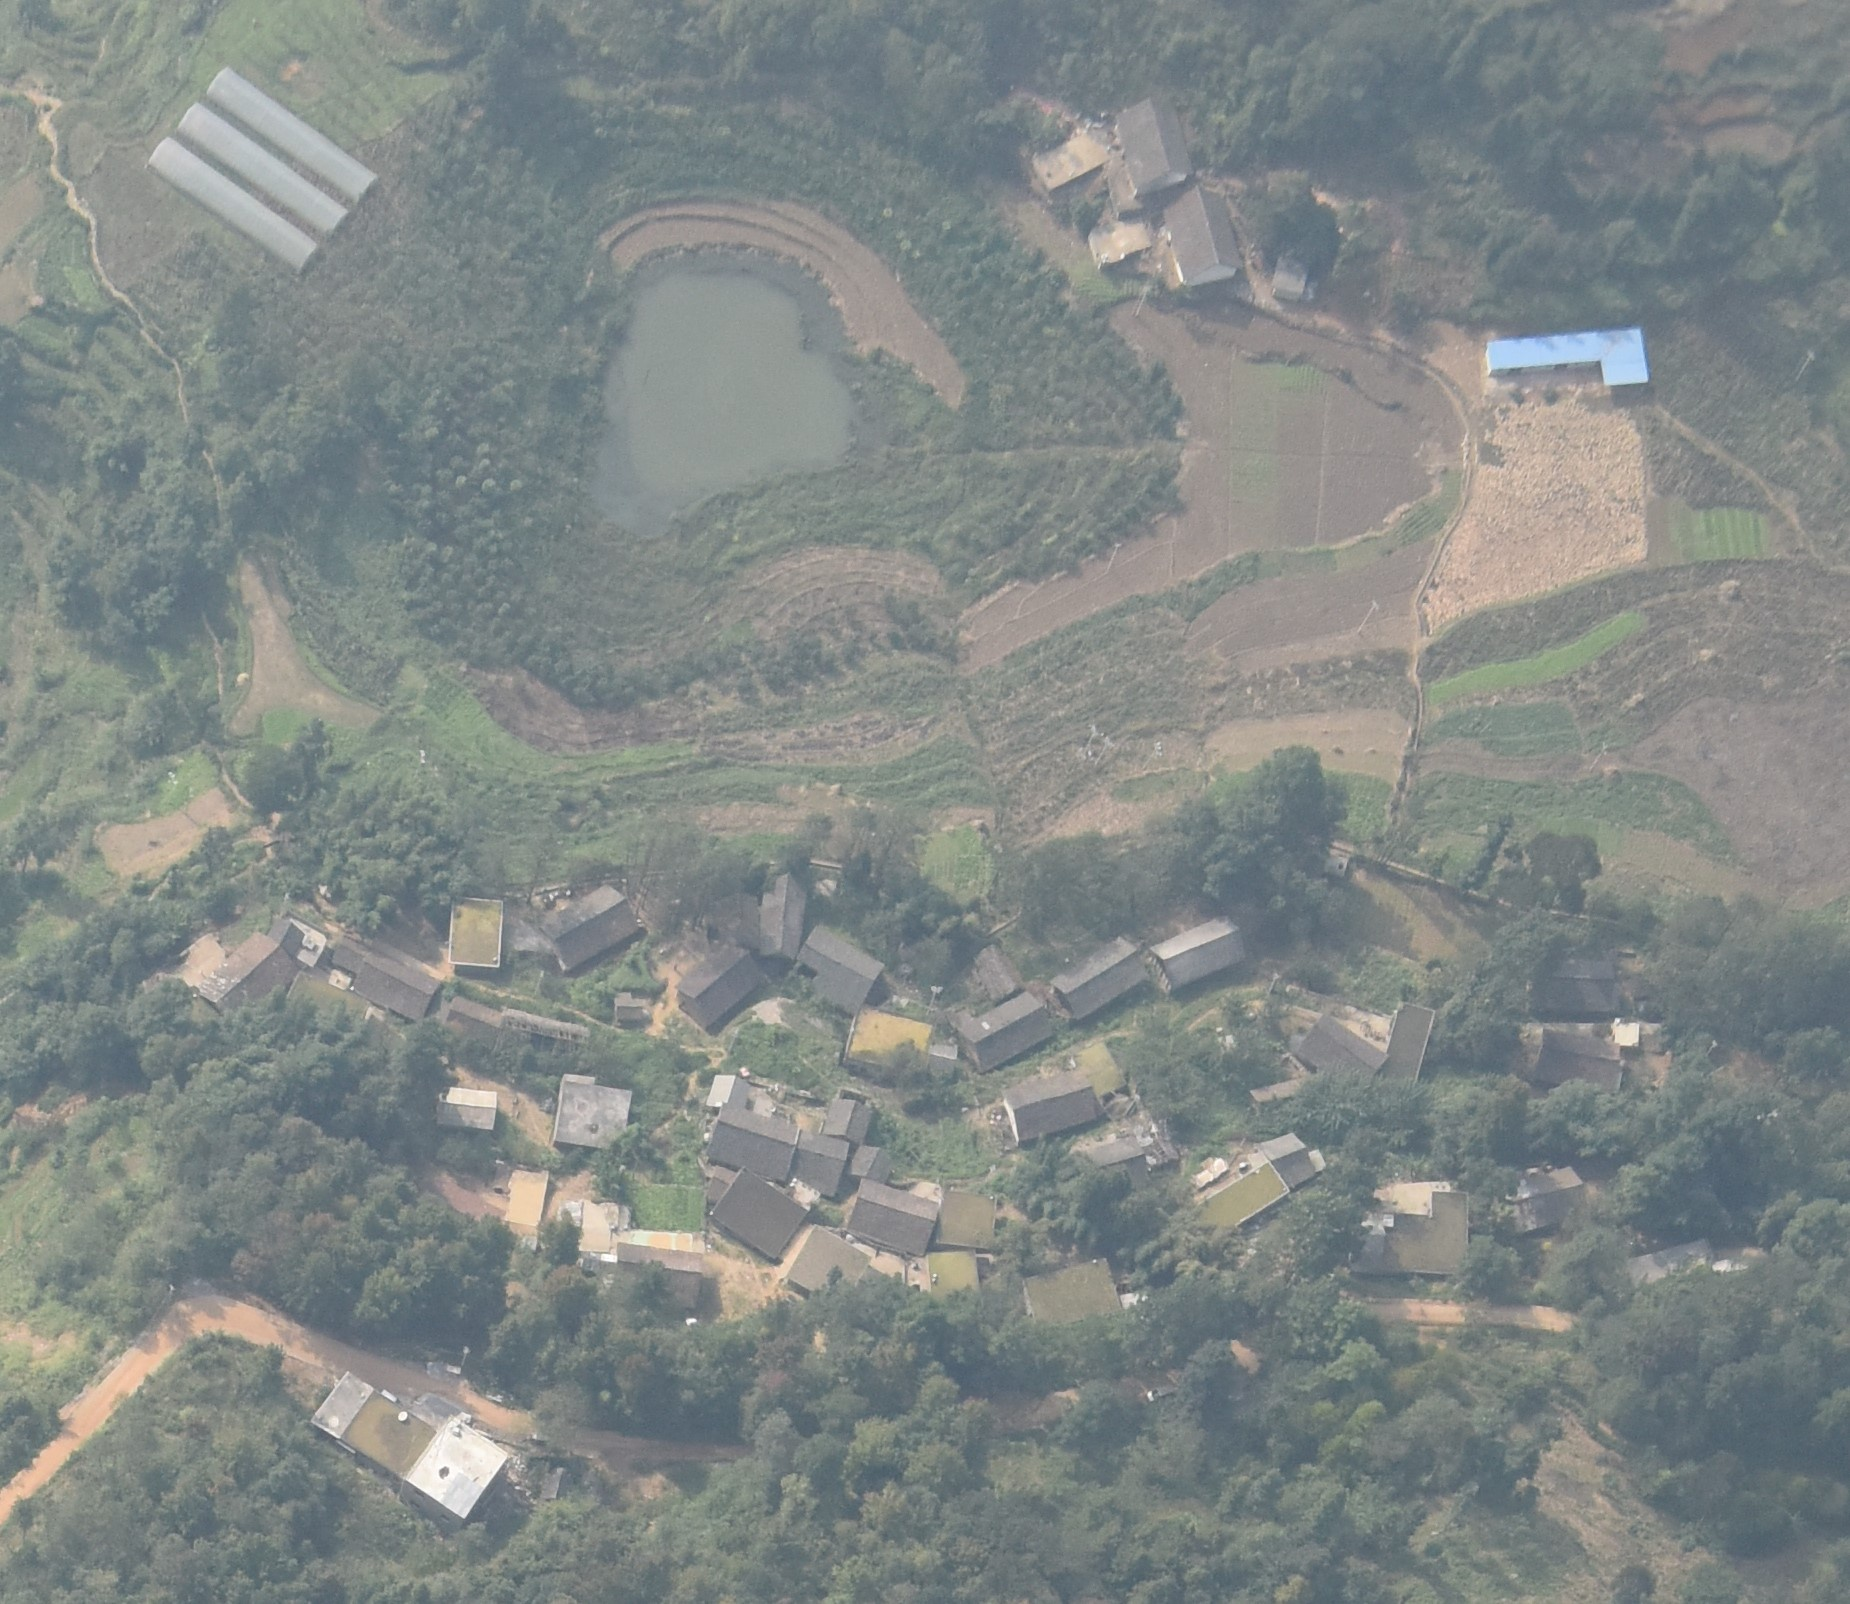building: (307, 1370, 511, 1521), (1356, 1190, 1468, 1278), (540, 884, 643, 973), (711, 1168, 809, 1263), (1051, 936, 1148, 1022), (793, 926, 886, 1014), (198, 931, 296, 1014), (1145, 915, 1249, 992), (708, 1102, 801, 1187), (960, 991, 1054, 1072), (1292, 1013, 1389, 1091), (1161, 190, 1244, 281), (676, 940, 758, 1033), (1115, 96, 1196, 190), (845, 1178, 939, 1256), (609, 1242, 705, 1319), (1528, 1027, 1622, 1101), (1023, 1260, 1123, 1327), (1004, 1069, 1096, 1142), (1521, 953, 1620, 1021), (552, 1072, 632, 1154), (845, 1006, 933, 1080), (352, 948, 442, 1019), (785, 1227, 870, 1300), (1203, 1161, 1288, 1233), (1384, 1002, 1435, 1094), (760, 871, 807, 962), (1627, 1238, 1715, 1286), (447, 893, 503, 969), (1520, 1165, 1586, 1230), (790, 1131, 851, 1197), (938, 1187, 997, 1253), (1076, 1140, 1152, 1189), (1255, 1132, 1317, 1189), (974, 944, 1027, 1005), (267, 917, 326, 967), (927, 1250, 980, 1304), (820, 1099, 873, 1146), (845, 1145, 894, 1183), (1271, 250, 1310, 296), (706, 1074, 749, 1112), (330, 934, 371, 970), (614, 992, 650, 1024)
pool: (577, 245, 857, 536)
prefabricated-house: (205, 66, 379, 204), (178, 102, 352, 241), (149, 135, 321, 269), (1487, 324, 1649, 388), (429, 1087, 497, 1131)
well: (1321, 855, 1348, 877)
